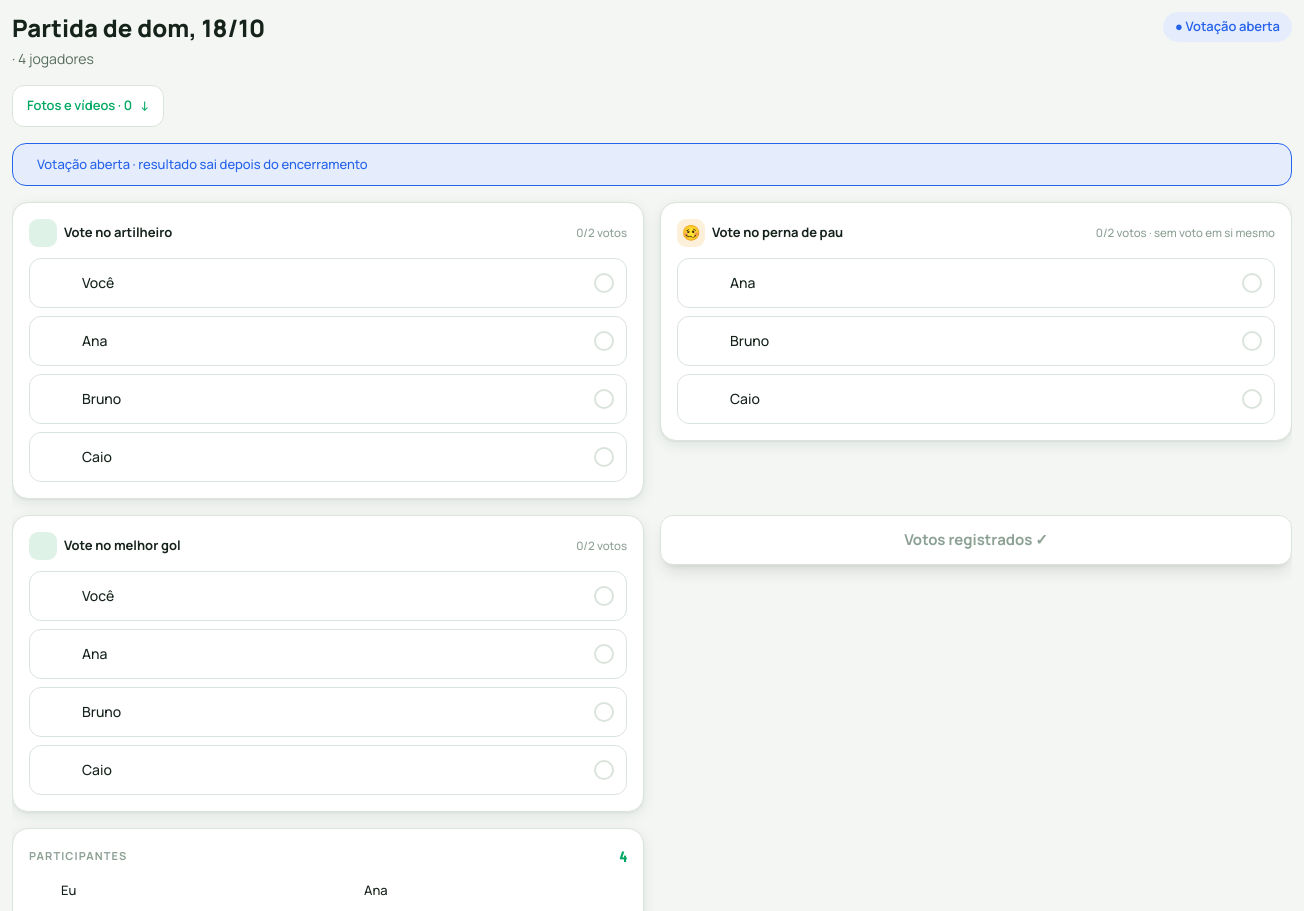
Scenario: voting draft + submit (FUT-003) › não permite marcar mais de 2 por categoria
Click the button "AN Ana" below "Vote no artilheiro" at [57, 340], box [29,316,627,366]
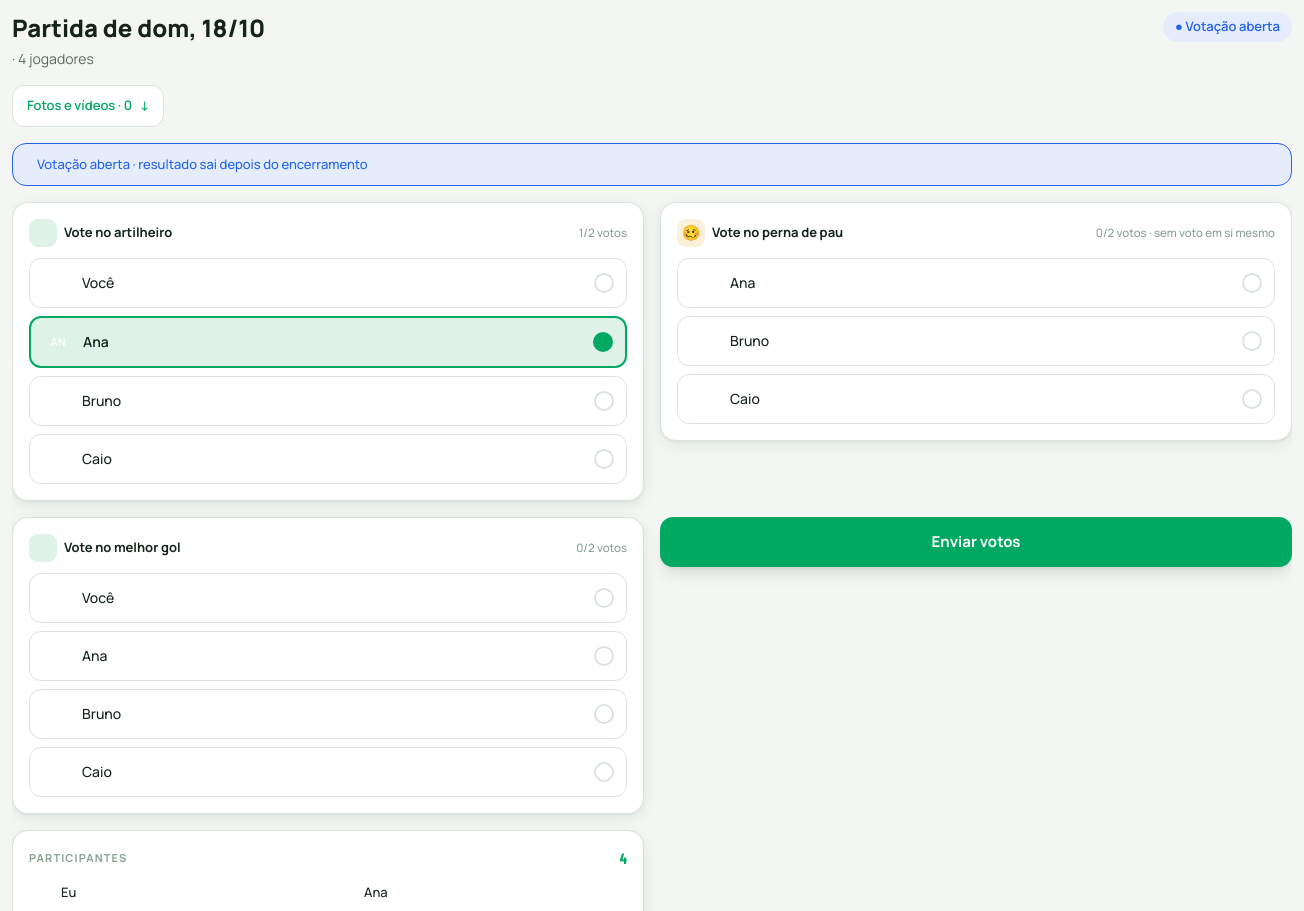
Click the button "BR Bruno" below "Vote no artilheiro" at [102, 400], box [29,376,627,426]
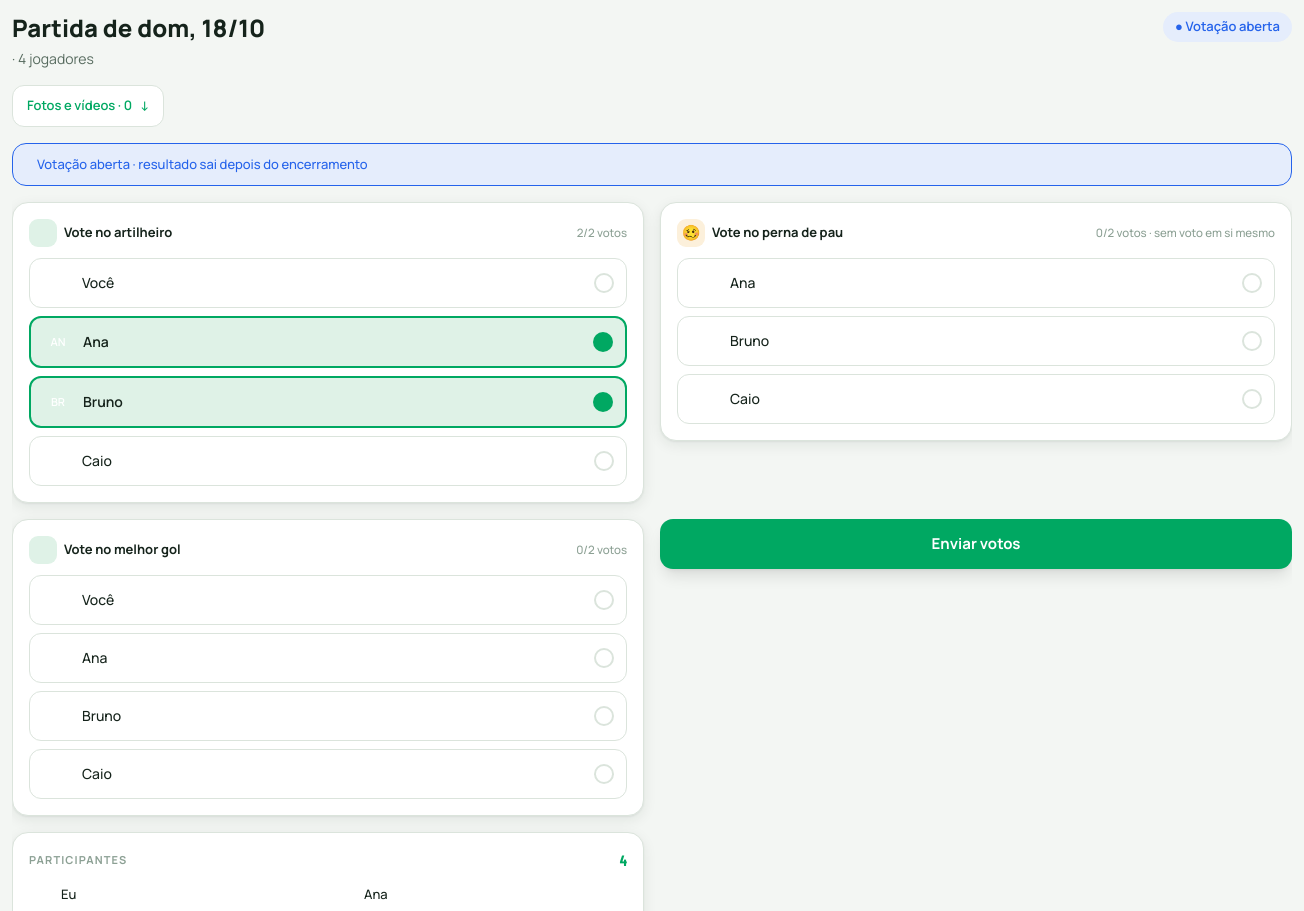
Click the button "CA Caio" below "Vote no artilheiro" at [57, 460], box [29,436,627,486]
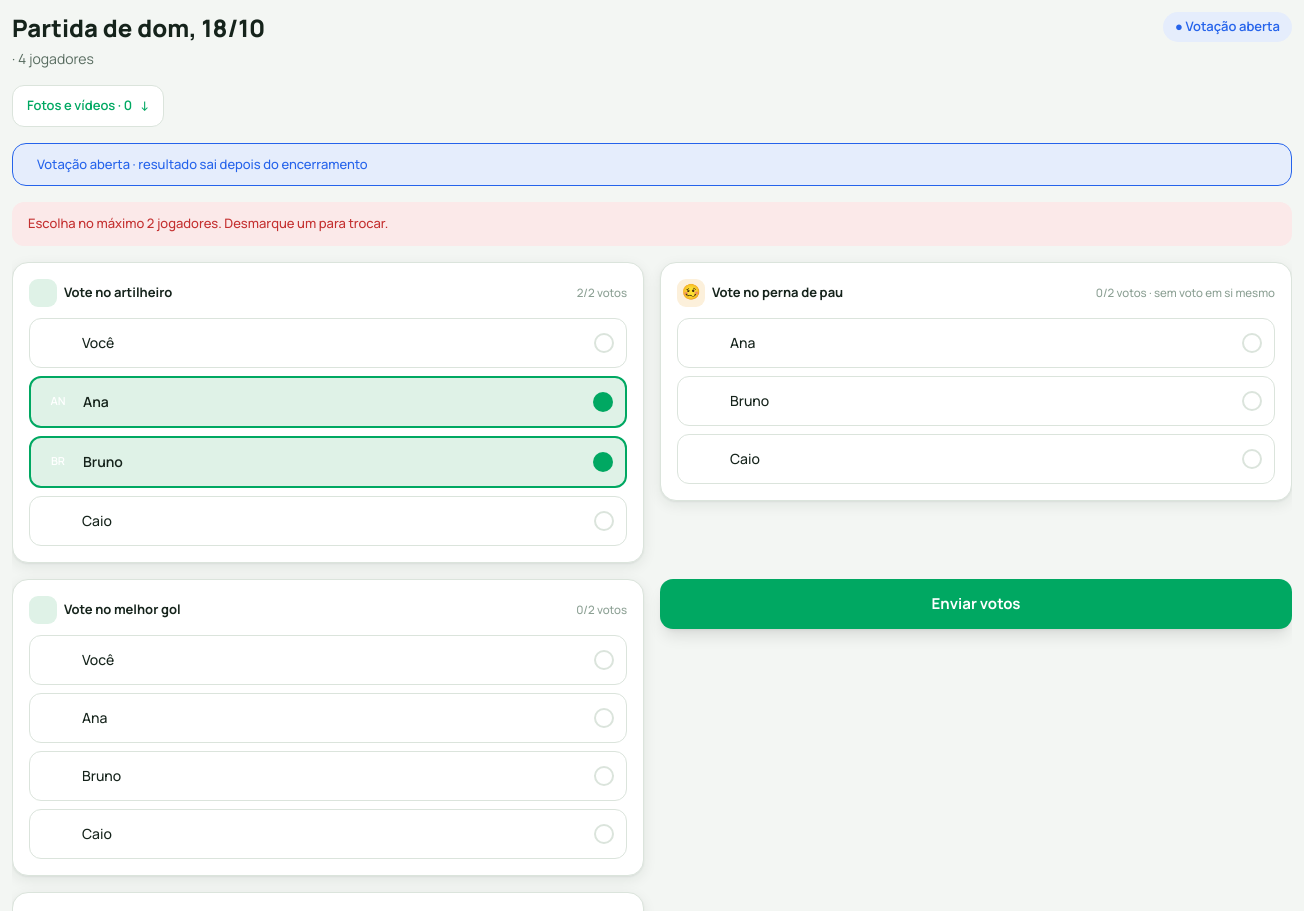
Now the text "Escolha no máximo 2" is shown, box [28,214,388,232]
